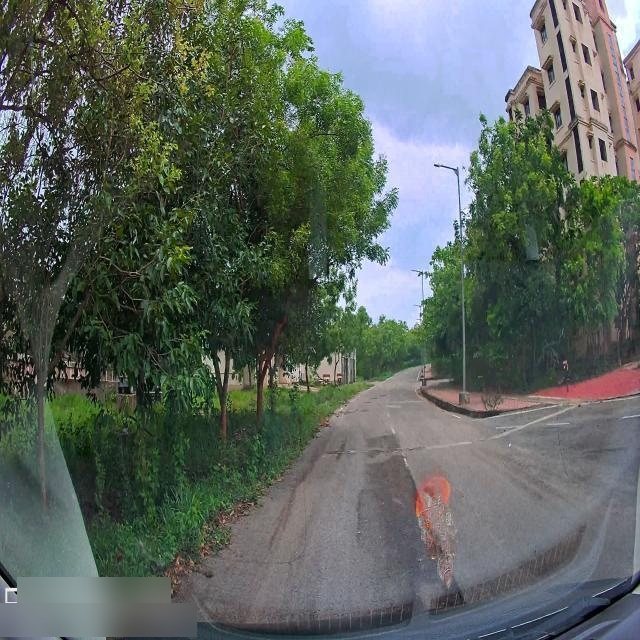pothole: (354, 480, 380, 558), (369, 441, 406, 463), (320, 448, 356, 464), (408, 444, 431, 454), (380, 389, 389, 399), (366, 401, 374, 408)
